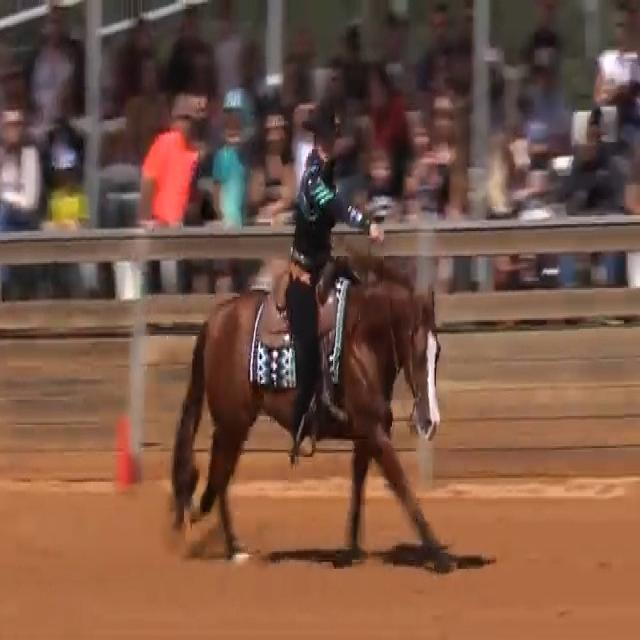horse: (167, 260, 453, 564)
